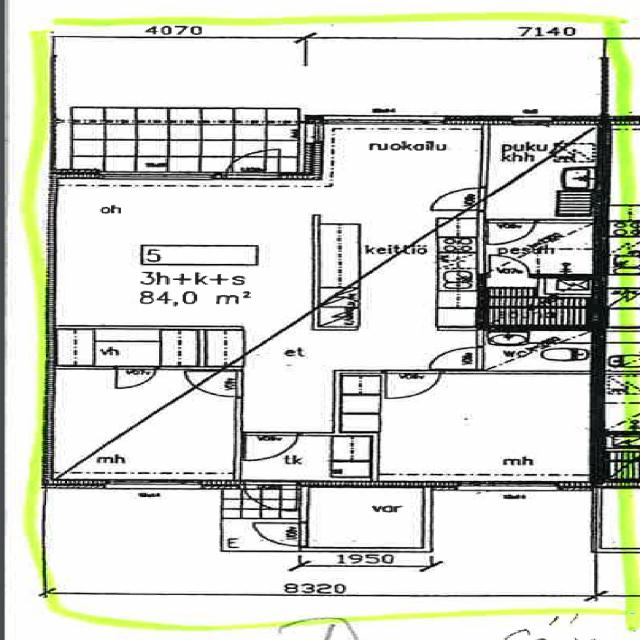door: (226, 143, 280, 180), (244, 480, 296, 514), (245, 432, 298, 462), (387, 371, 441, 400), (181, 372, 242, 397), (252, 524, 310, 547), (489, 220, 536, 246), (432, 188, 487, 210), (432, 348, 487, 369), (491, 256, 530, 278), (116, 366, 154, 388)
